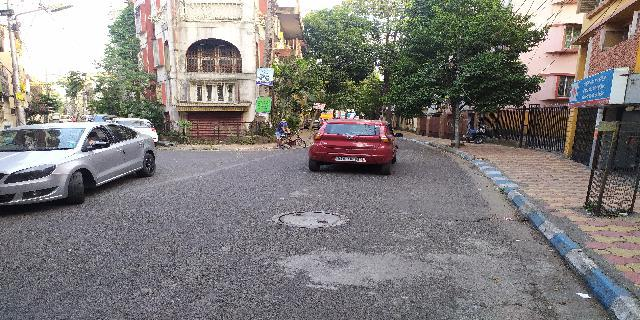Car: (1, 117, 160, 214), (304, 117, 399, 180)
